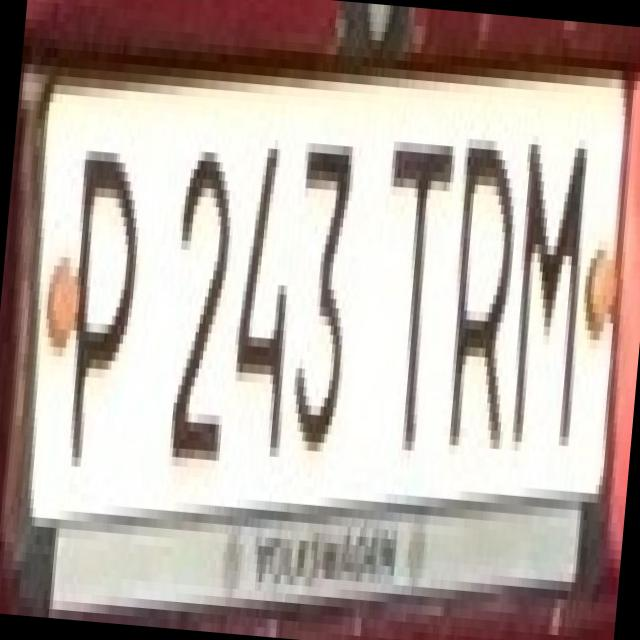2: (150, 130, 243, 460)
3: (269, 114, 376, 454)
4: (210, 119, 314, 458)
B: (428, 110, 530, 458)
M: (493, 116, 593, 446)
P: (40, 122, 150, 470)
T: (358, 104, 460, 452)
